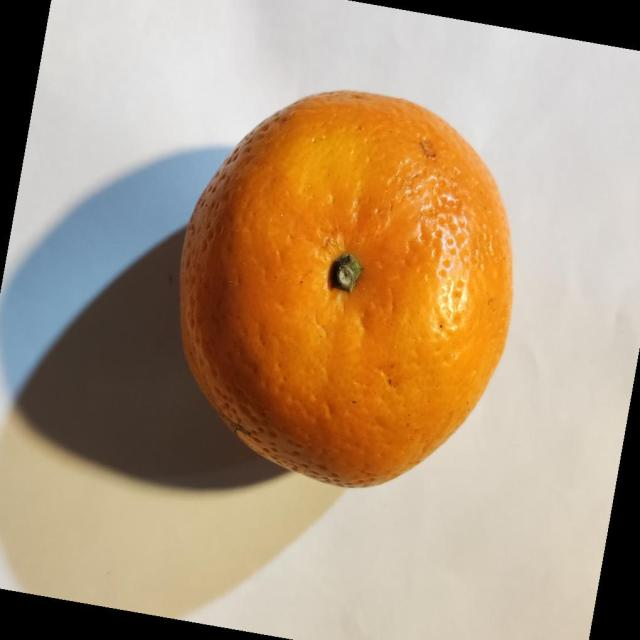fresh orange: (177, 88, 514, 489)
